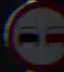No overtake: (5, 7, 61, 56)
